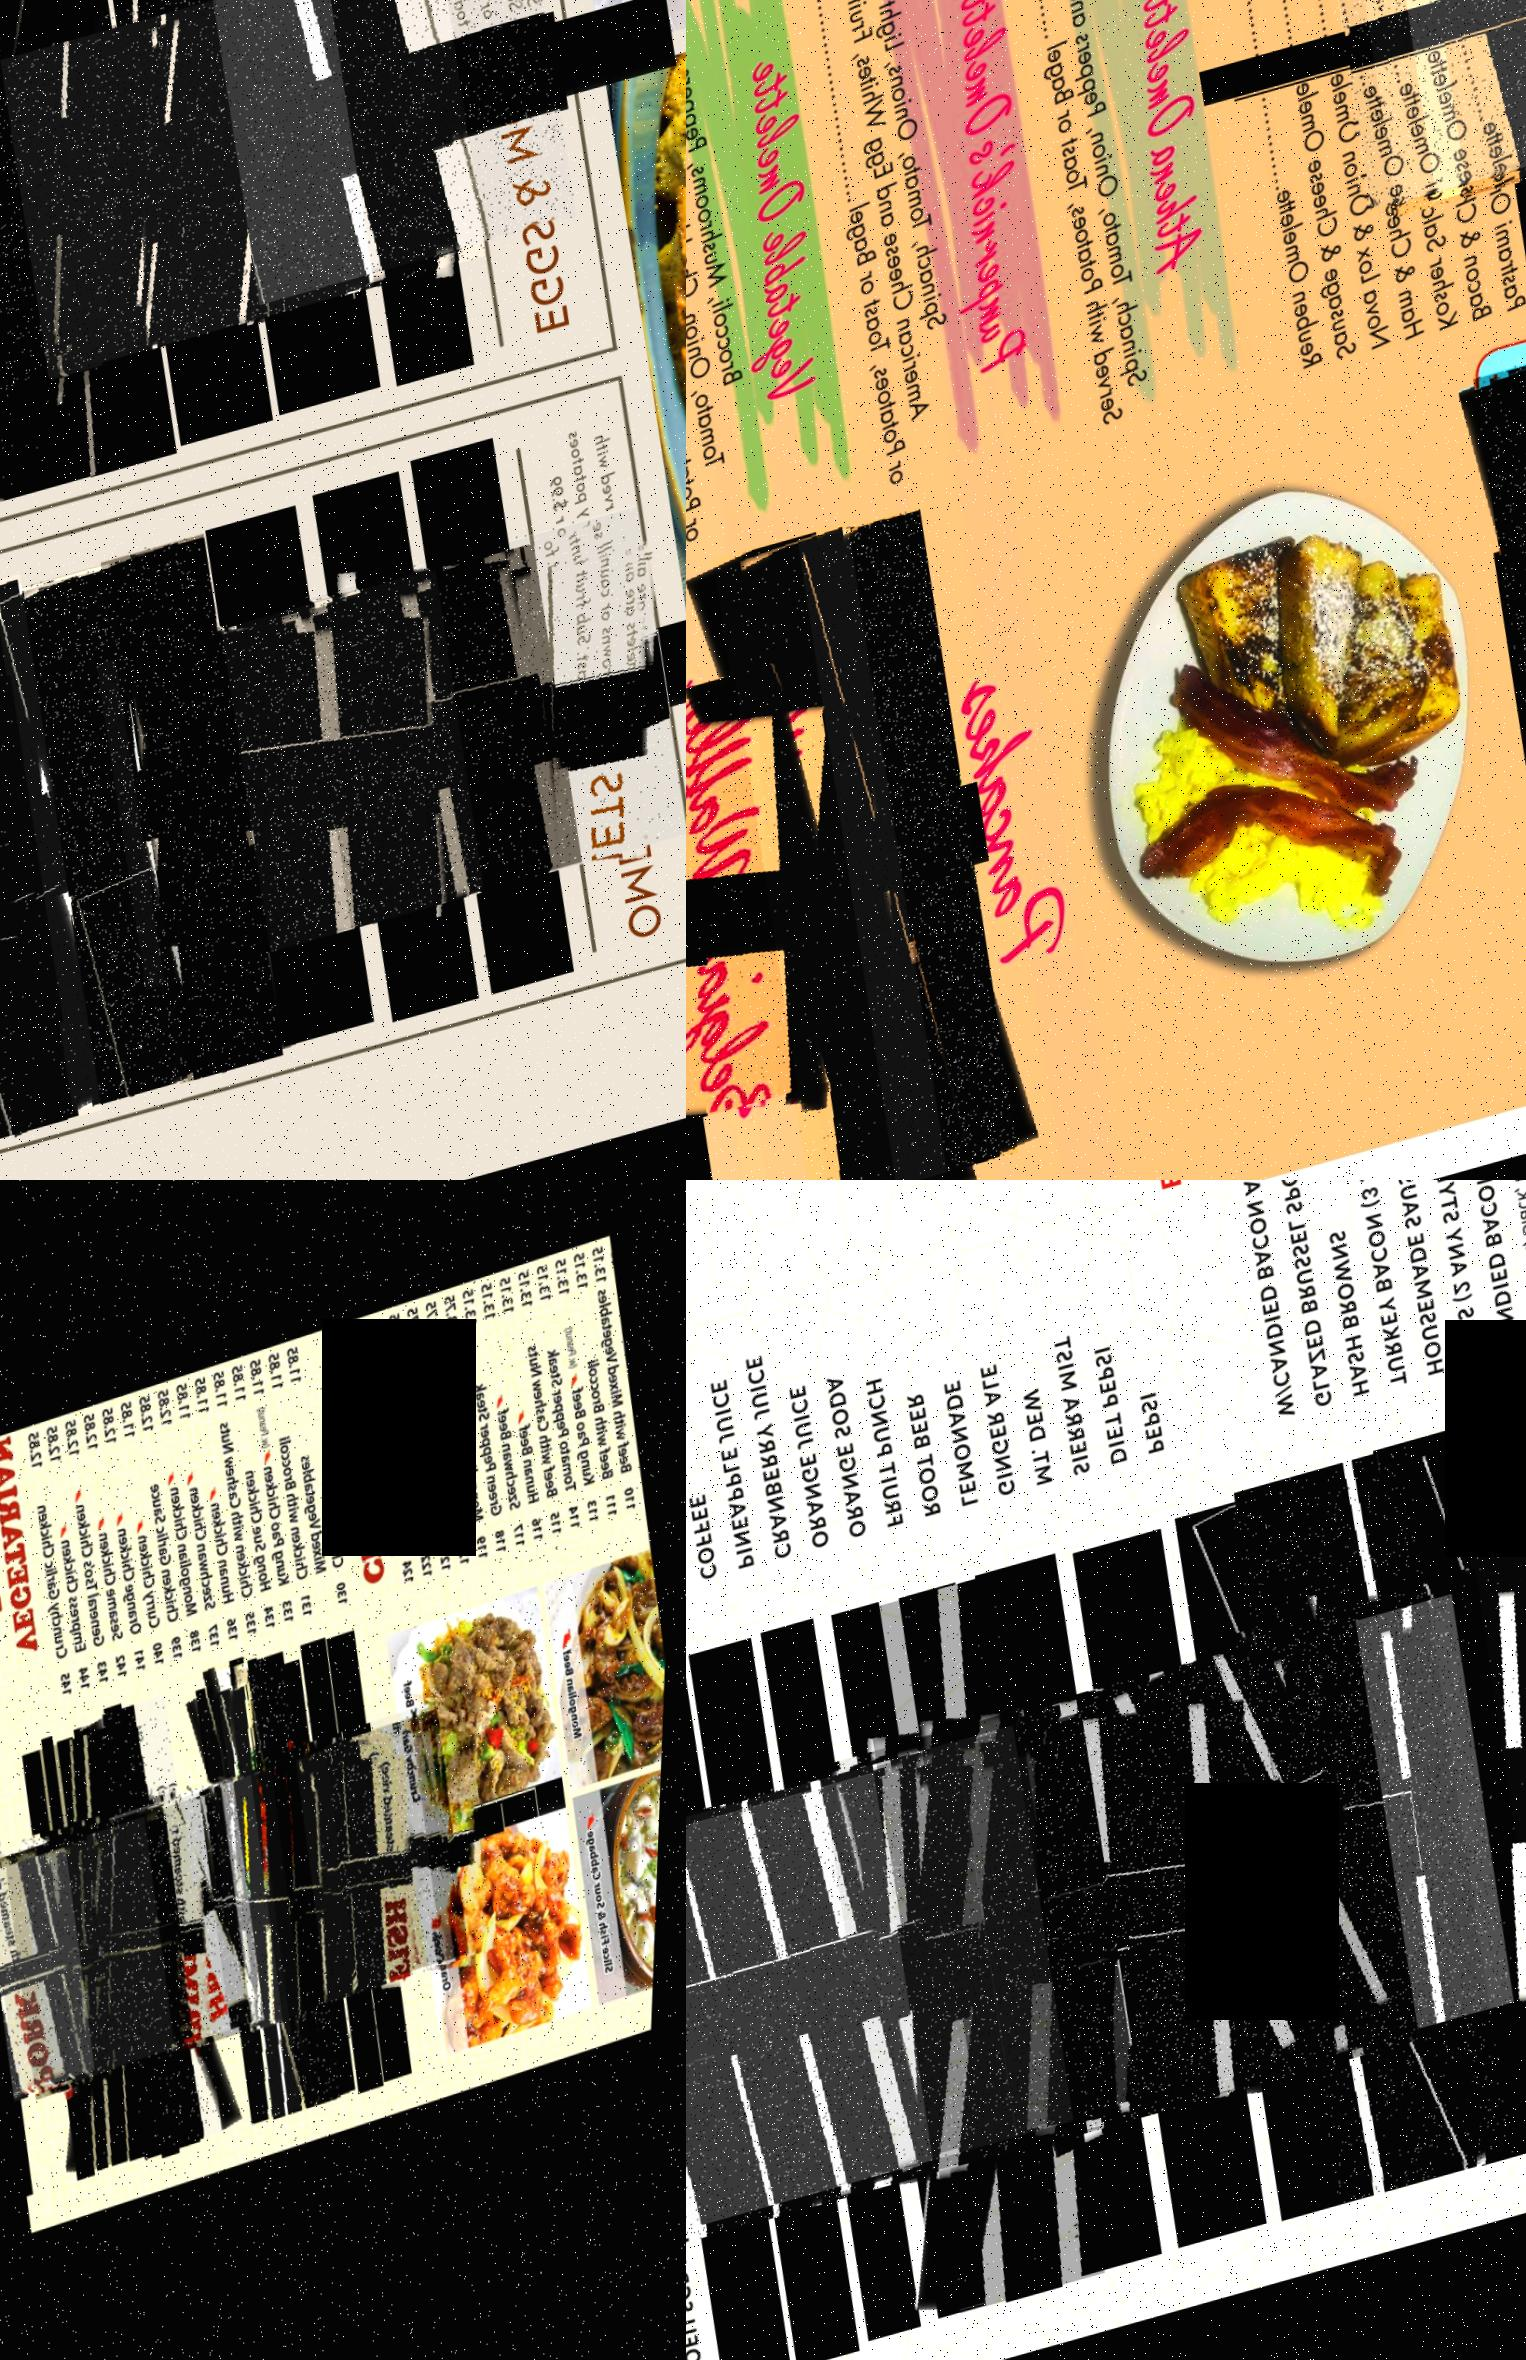Menu-Items: (917, 1626, 1449, 2176), (817, 1653, 1344, 2198), (1029, 1607, 1526, 2136), (1213, 1452, 1526, 2231), (686, 1717, 1165, 2221), (840, 1572, 1148, 2332), (686, 1729, 1103, 2243), (698, 519, 989, 1180), (686, 1739, 1044, 2272), (785, 509, 1055, 1180), (1211, 1527, 1526, 2099), (93, 575, 504, 998), (292, 513, 686, 944), (764, 0, 1099, 495), (205, 552, 604, 965), (83, 0, 502, 363), (0, 0, 391, 385), (969, 0, 1273, 447), (686, 1770, 962, 2260), (89, 532, 315, 1099), (0, 559, 218, 1123), (205, 0, 592, 318), (0, 0, 298, 411), (686, 0, 900, 573), (686, 654, 903, 1180), (236, 1699, 511, 2031), (1161, 0, 1368, 416), (212, 1713, 478, 2035), (188, 1725, 452, 2047), (105, 1751, 368, 2069), (2, 1787, 263, 2105), (15, 1775, 277, 2092), (0, 571, 132, 1166), (0, 1791, 243, 2102), (0, 0, 143, 521), (88, 1693, 243, 2164), (1435, 1405, 1526, 2174), (1220, 0, 1392, 389), (1285, 0, 1462, 377), (1254, 0, 1424, 390), (26, 1729, 169, 2181), (1325, 0, 1497, 372), (227, 1651, 361, 2126), (203, 1653, 335, 2133), (1349, 0, 1526, 358), (188, 1679, 320, 2133), (0, 1808, 203, 2097), (0, 1816, 188, 2104), (0, 26, 114, 476), (1383, 0, 1526, 353), (1309, 0, 1526, 232), (686, 1669, 759, 2360), (1333, 0, 1526, 241), (1459, 346, 1526, 1020), (1196, 1180, 1371, 1436), (1232, 1180, 1411, 1429), (1266, 1180, 1443, 1417), (1302, 1180, 1481, 1410), (1342, 1180, 1517, 1400), (0, 674, 86, 1092), (0, 1828, 129, 2105), (1378, 1180, 1526, 1395), (1211, 1180, 1321, 1452), (274, 1335, 365, 1634), (0, 1846, 107, 2099), (217, 1357, 294, 1655), (411, 1297, 489, 1593), (578, 1247, 655, 1541), (10, 1421, 89, 1708), (52, 1407, 129, 1699), (145, 1380, 222, 1672), (561, 1252, 637, 1548), (356, 1314, 434, 1601), (504, 1269, 580, 1562), (163, 1373, 239, 1663), (256, 1347, 330, 1641), (434, 1292, 508, 1586), (396, 1304, 470, 1595), (452, 1287, 526, 1577), (470, 1280, 544, 1570), (487, 1275, 561, 1565), (89, 1397, 163, 1686), (182, 1369, 256, 1658), (127, 1386, 200, 1679), (110, 1392, 182, 1682), (200, 1364, 272, 1655), (542, 1259, 614, 1548), (526, 1264, 597, 1555), (72, 1402, 143, 1687), (38, 1414, 107, 1699), (237, 1354, 306, 1639), (380, 1309, 449, 1595)
